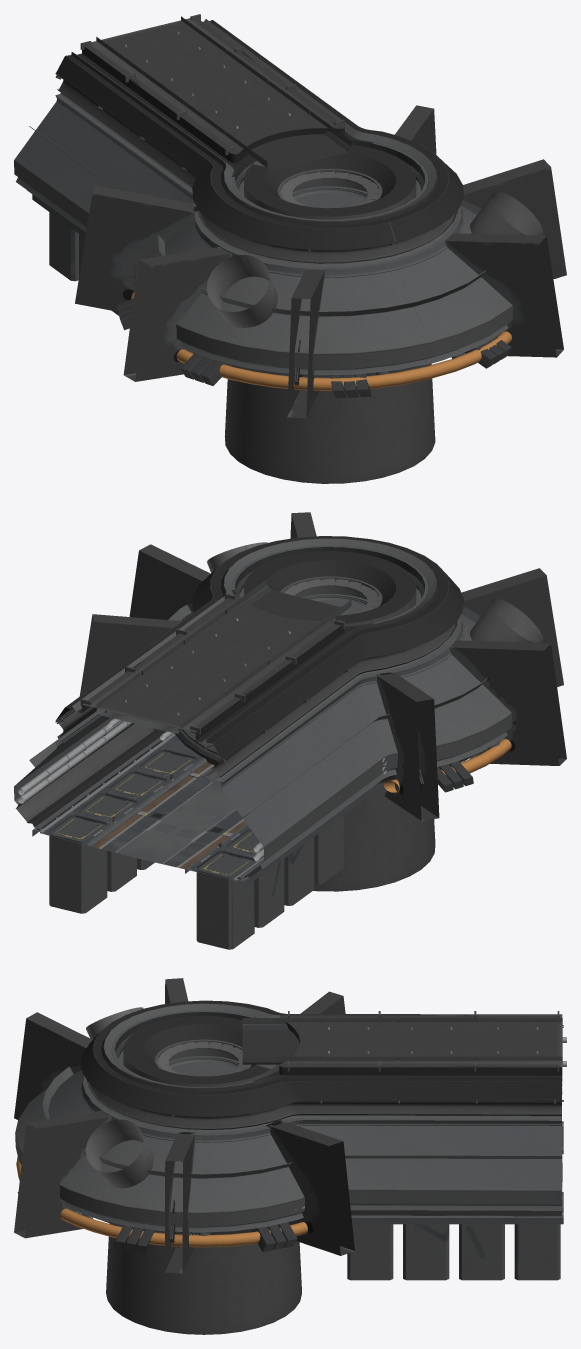
File: spacehanger.gltf
3 views of the same model, one above another, from view 1: azimuth 30°, elevation 25°; view 2: azimuth 150°, elevation 25°; view 3: azimuth 270°, elevation 25° (orthographic). The views are drawn at different scales.
Parts seen in each view (by area): view 1: Cylinder.001, Plane, Plane_Details_Cevre_0.001; view 2: Cylinder.001, Plane, Plane_Details_Cevre_0.001, Plane_Details_Cevre_0.002; view 3: Cylinder.001, Plane, Plane_Details_Cevre_0.001.
Part boxes in pixels (bbox=[...]): Cylinder.001: bbox=[14, 16, 512, 483]; Plane: bbox=[55, 14, 566, 418]; Plane_Details_Cevre_0.001: bbox=[92, 105, 550, 390]; Cylinder.001: bbox=[14, 536, 512, 949]; Plane: bbox=[37, 514, 566, 879]; Plane_Details_Cevre_0.001: bbox=[18, 512, 550, 879]; Plane_Details_Cevre_0.002: bbox=[18, 618, 290, 879]; Cylinder.001: bbox=[15, 1000, 563, 1334]; Plane: bbox=[14, 981, 563, 1273]; Plane_Details_Cevre_0.001: bbox=[16, 978, 562, 1247].
Bounding box in the file's own units: 6.43 × 4 × 7.54.
2 materials, 2 textured.
